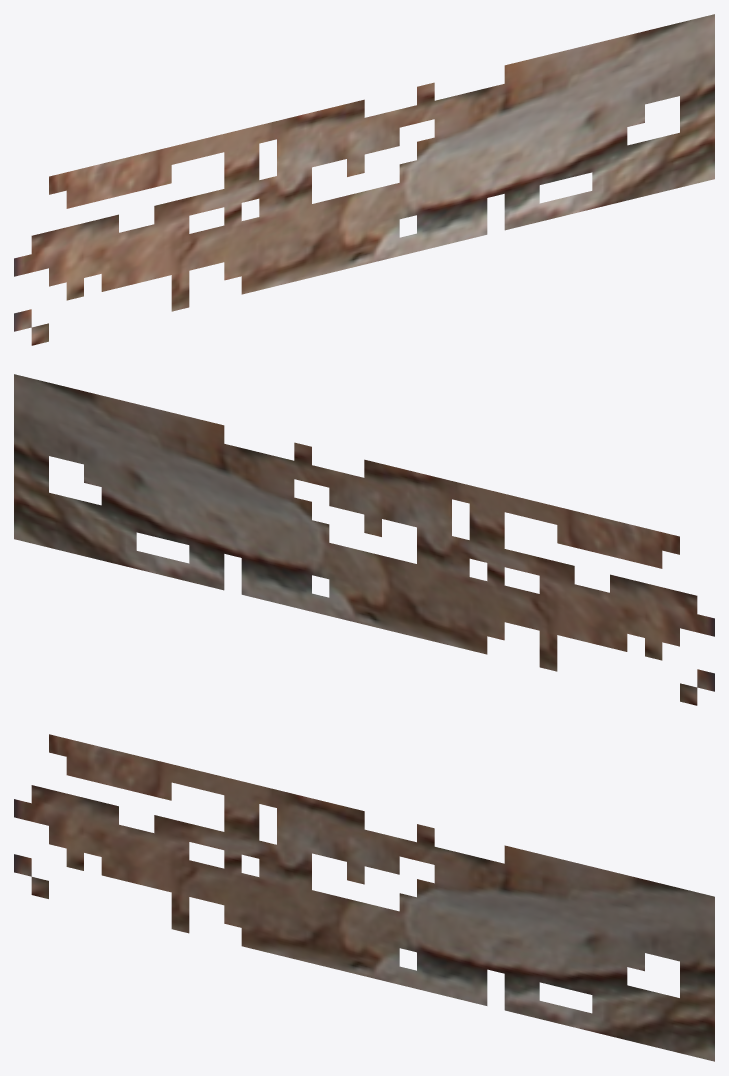
The model's file is region.obj.
3 renders of one model, top to bottom at view 1: azimuth 30°, elevation 25°; view 2: azimuth 150°, elevation 25°; view 3: azimuth 330°, elevation 25°, orthographic.
Parts seen in each view (by area): view 1: owned_material_region; view 2: owned_material_region; view 3: owned_material_region.
Boxes of the visible parts, x1,y1,x2,y2 form: owned_material_region: (14,14,714,345); owned_material_region: (14,374,714,705); owned_material_region: (14,734,714,1061).
Bounding box in the file's own units: 0.8333 × 0.1875 × 0.
1 material, 1 textured.
